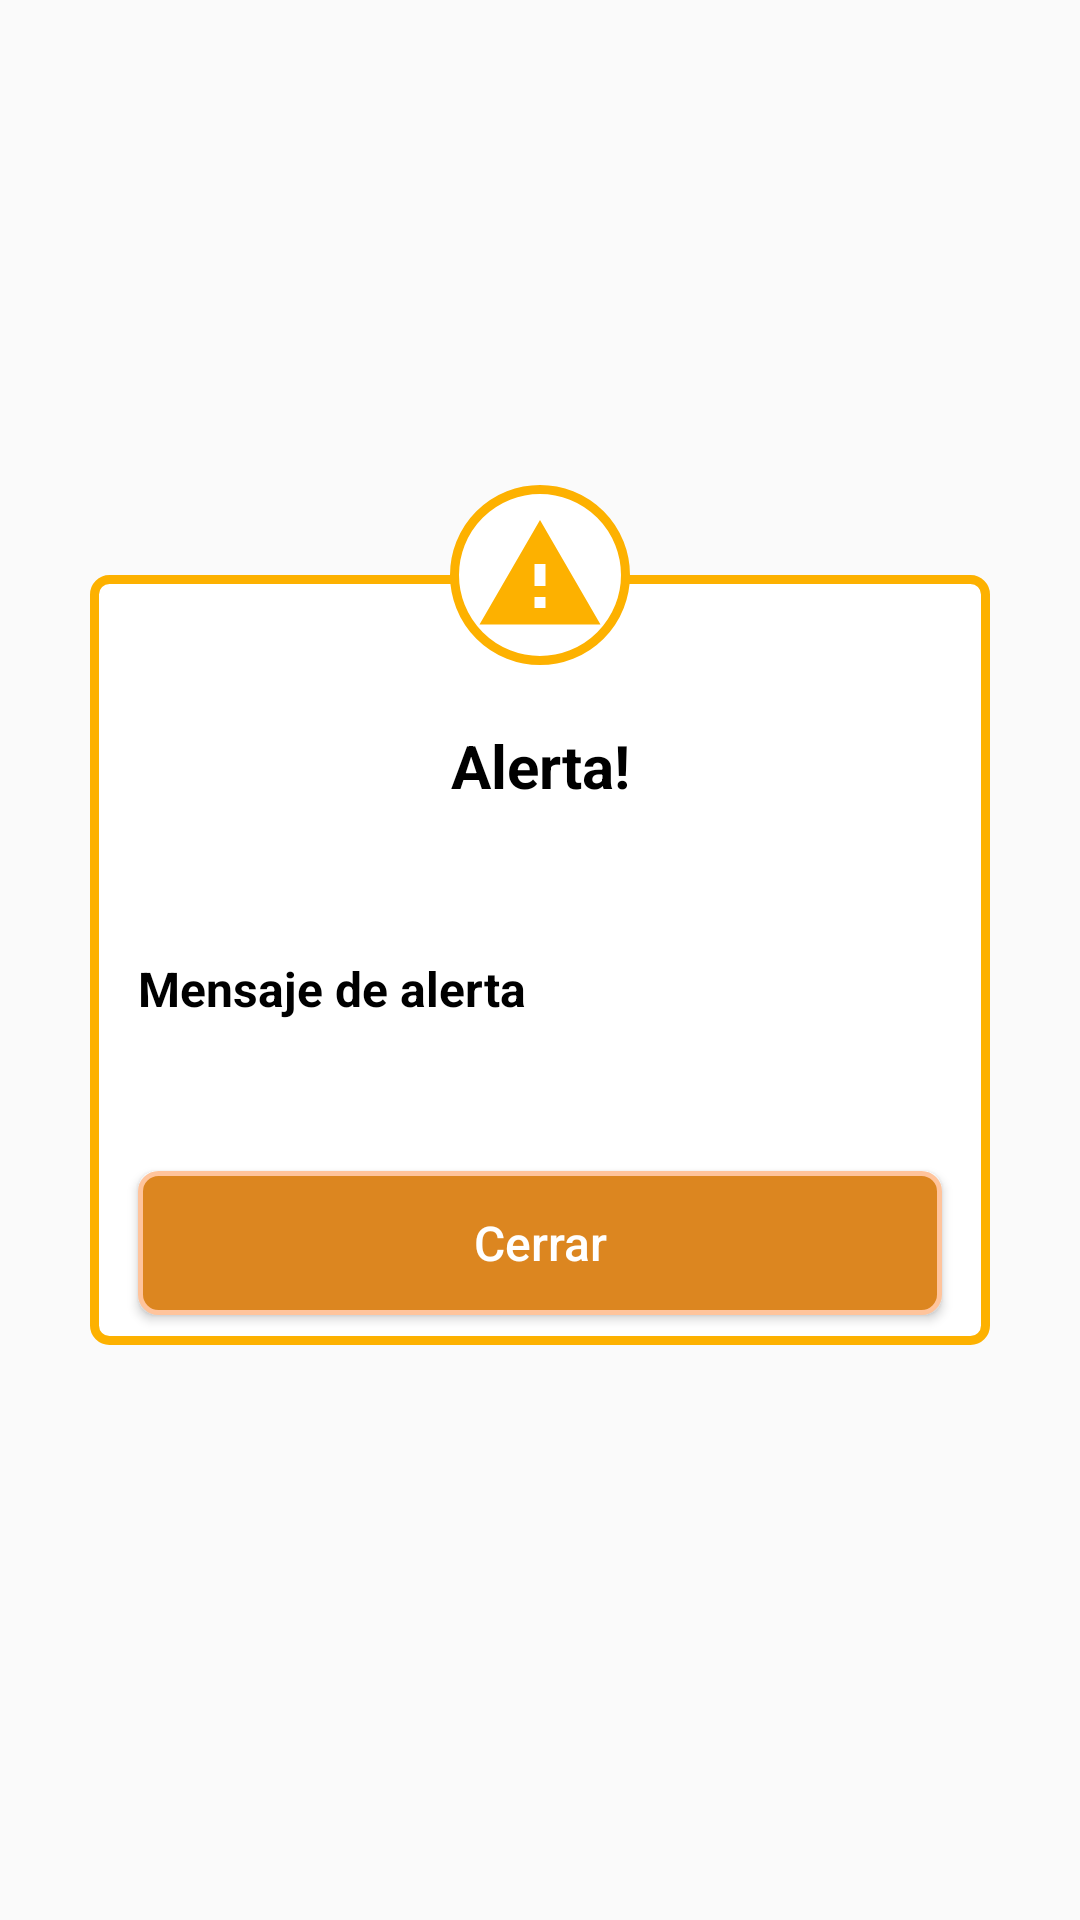

Screen size 1080px×1920px. Icon name, then its center in pixels as point (x, y):
warning: point (540, 572)
